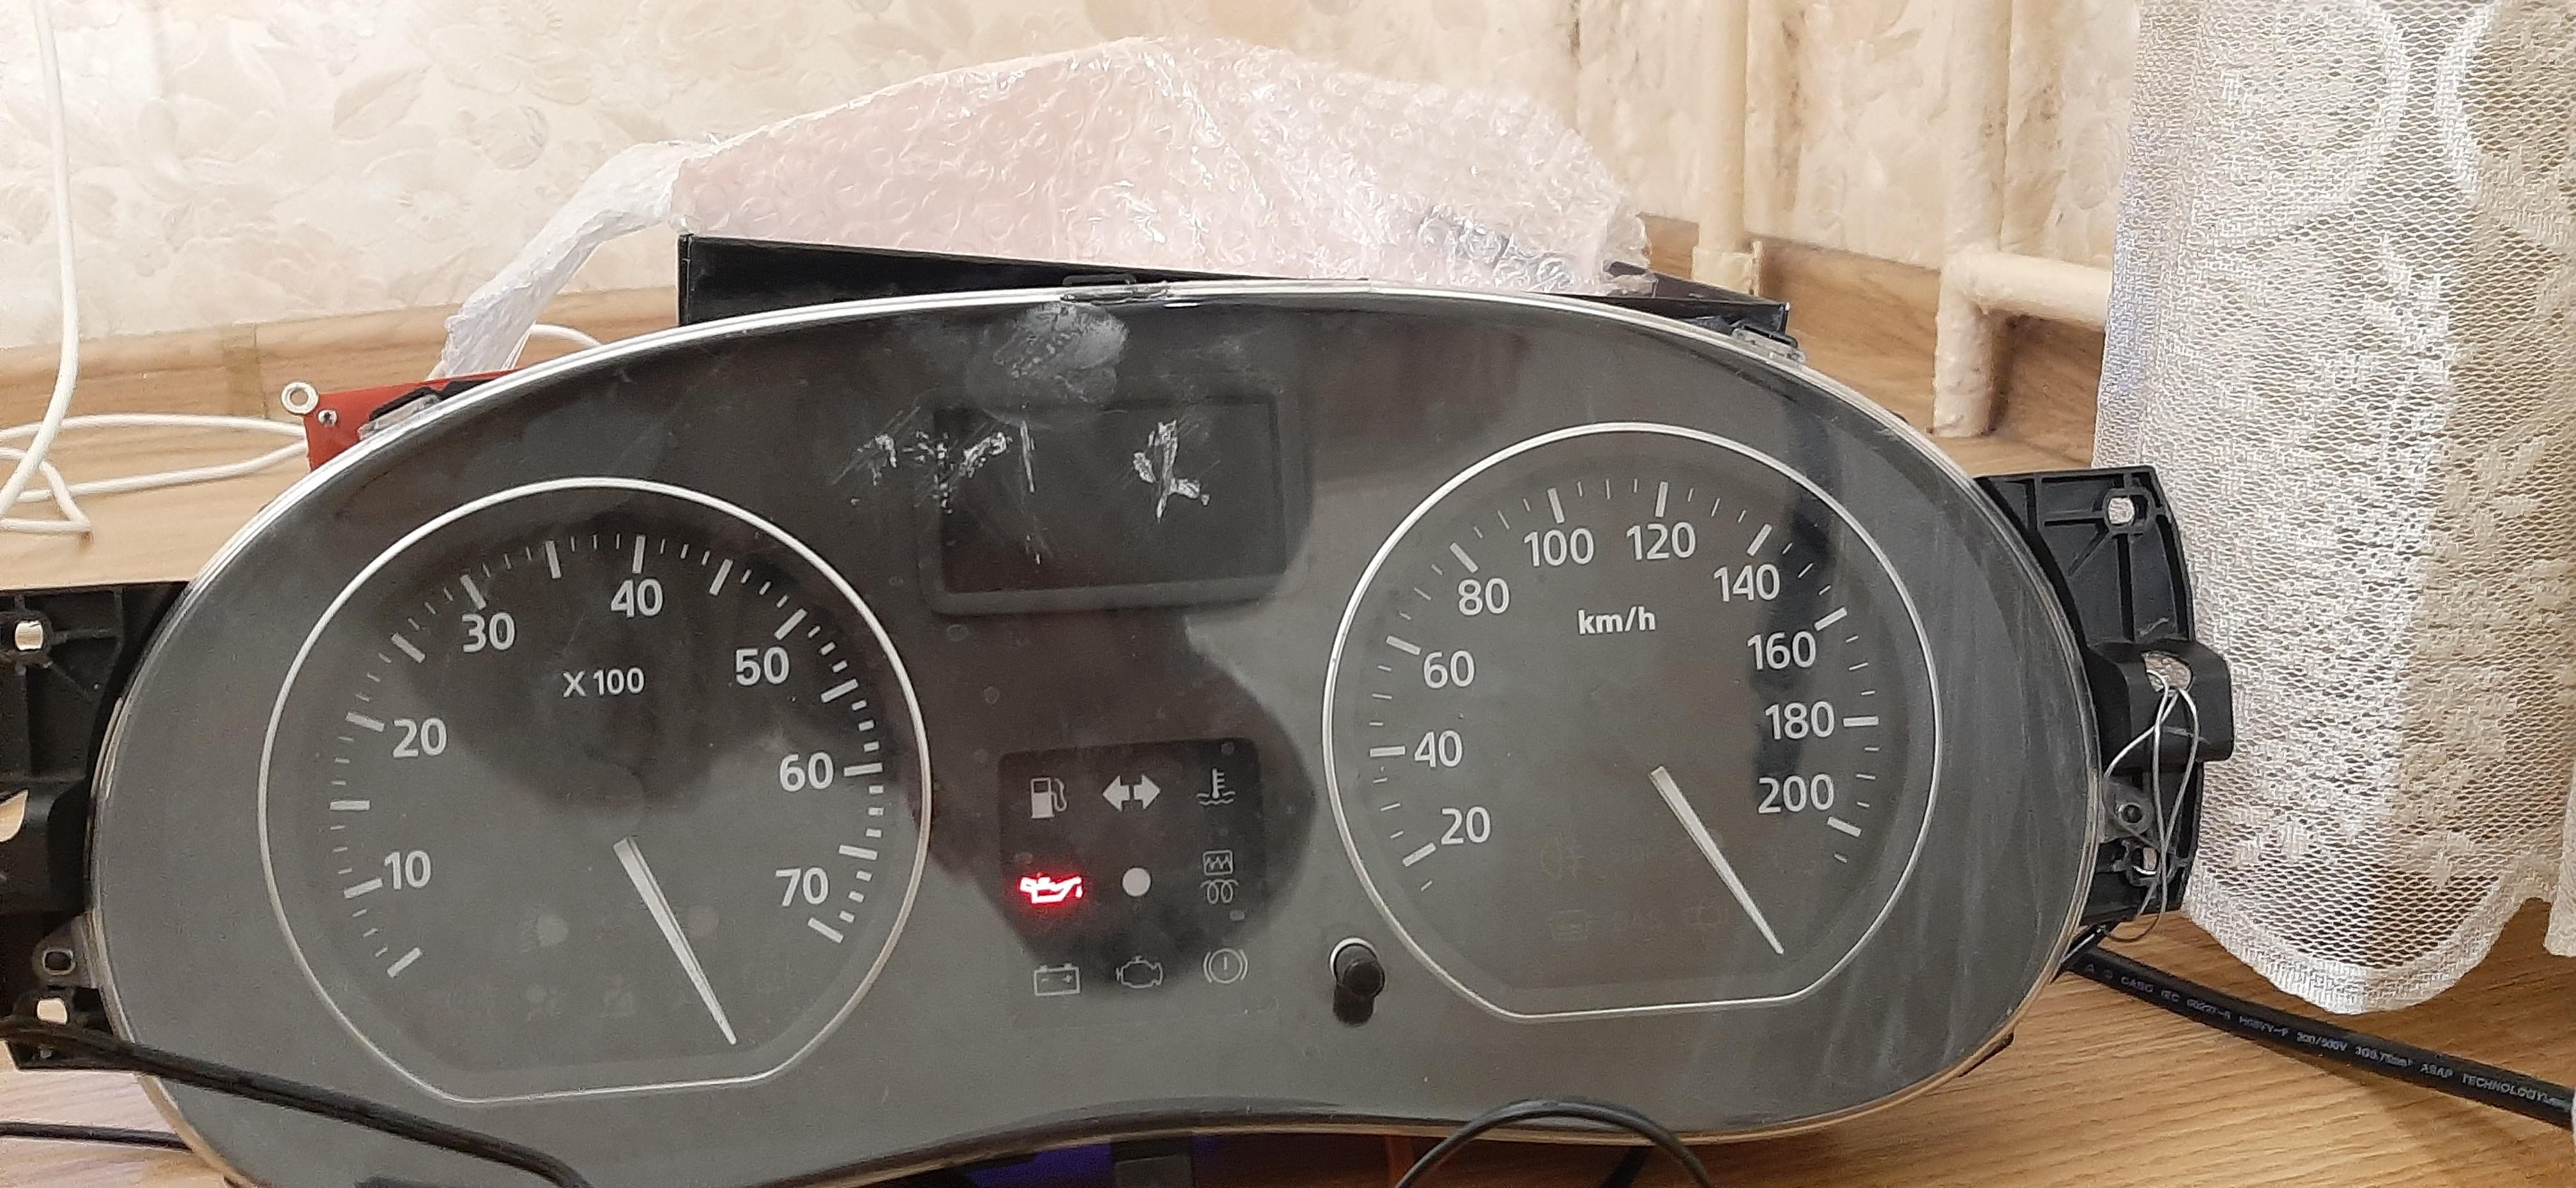oil2: (1015, 871, 1088, 904)
